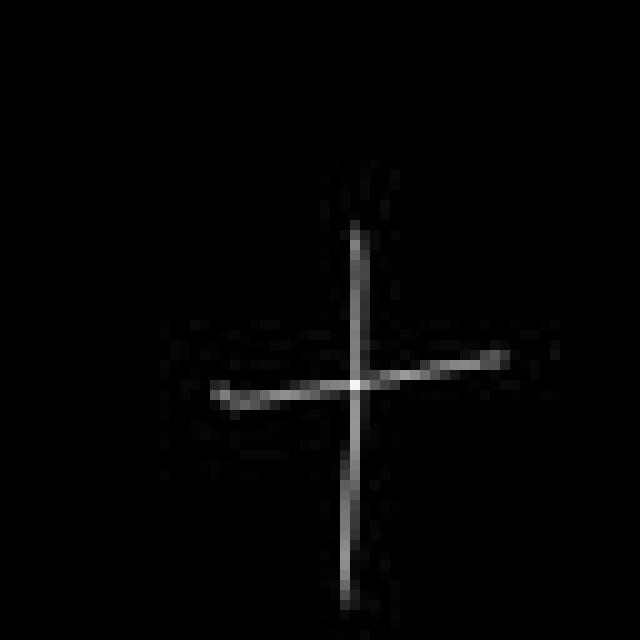10 -ten-: (200, 212, 512, 612)
